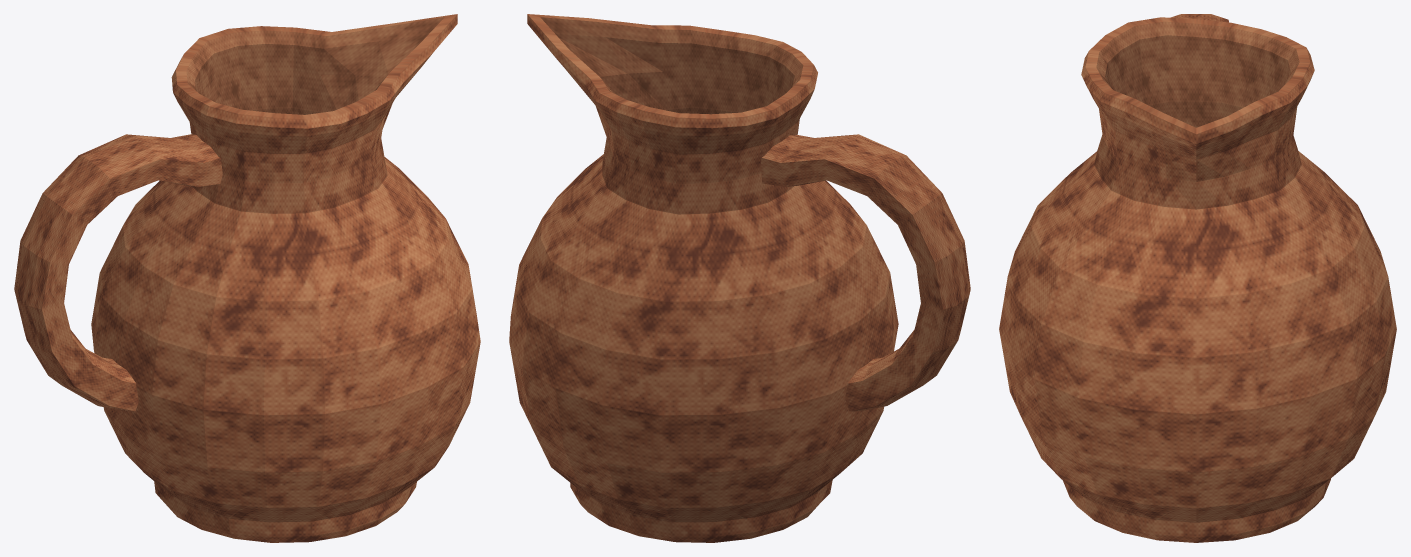
The model's file is Jarra-de-Barro.glb.
The picture shows the model from 3 angles, left to right: view 1: azimuth 30°, elevation 25°; view 2: azimuth 150°, elevation 25°; view 3: azimuth 270°, elevation 25°; orthographic projection.
Visible parts, largest first — view 1: Corpo, Alça, Interior; view 2: Corpo, Alça, Interior; view 3: Corpo, Interior.
Part boxes in pixels (left/top/right/bottom): Corpo: left=91, top=14, right=480, bottom=542; Alça: left=14, top=134, right=222, bottom=411; Interior: left=186, top=17, right=444, bottom=114; Corpo: left=509, top=14, right=898, bottom=542; Alça: left=760, top=134, right=970, bottom=411; Interior: left=540, top=17, right=803, bottom=114; Corpo: left=999, top=17, right=1396, bottom=542; Interior: left=1096, top=21, right=1299, bottom=127.
Size of the model in its own units: 0.2361 by 0.2254 by 0.184.
2 materials, 2 textured.
